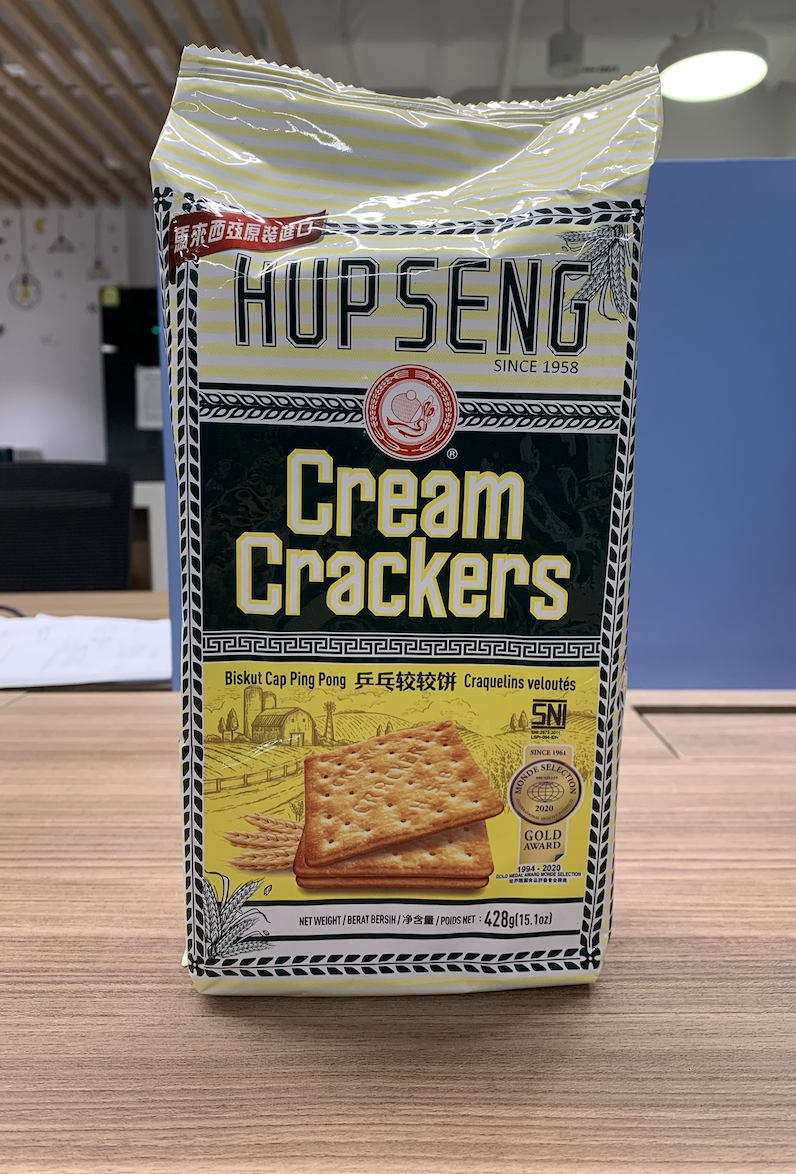crackers_450g: (169, 166, 620, 968)
